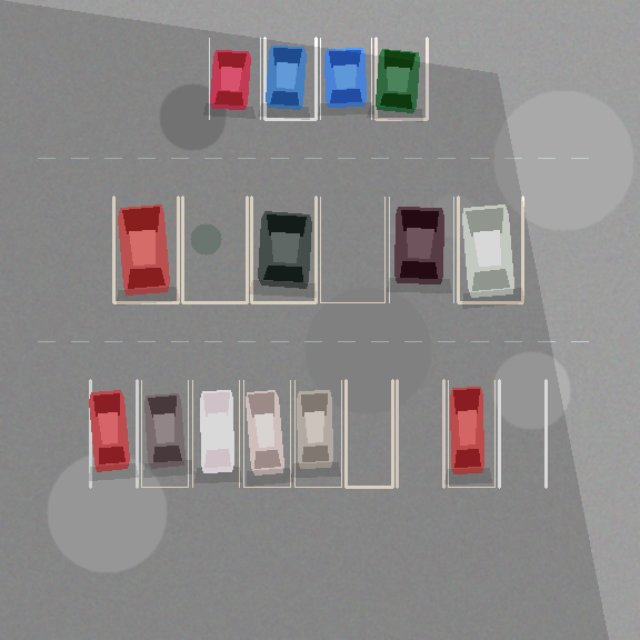space-empty: (182, 197, 247, 302), (320, 197, 384, 302), (499, 380, 546, 487), (346, 380, 392, 487), (397, 380, 443, 487)
space-occupied: (113, 197, 178, 302), (251, 197, 316, 302), (389, 197, 453, 302), (458, 197, 522, 302), (90, 380, 137, 487), (141, 380, 188, 487), (192, 380, 239, 487), (243, 380, 290, 487), (294, 380, 341, 487), (448, 380, 494, 487), (264, 38, 316, 119), (209, 38, 260, 119), (320, 38, 371, 119), (376, 38, 427, 119)
